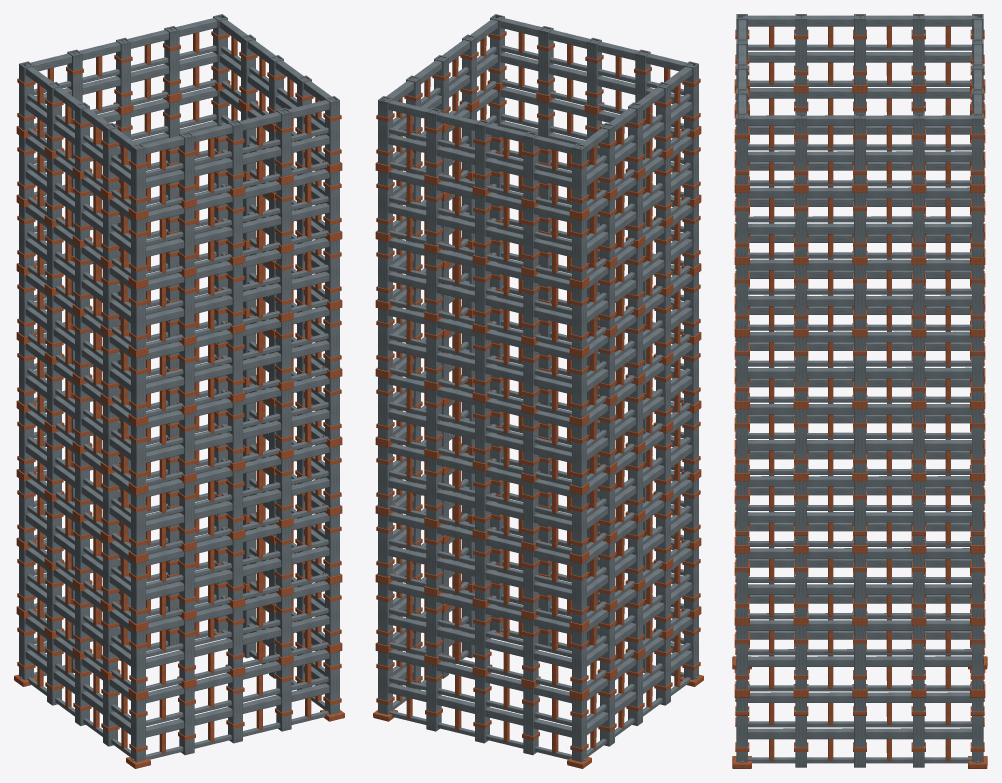
3 views of the same model, side by side, from view 1: azimuth 30°, elevation 25°; view 2: azimuth 150°, elevation 25°; view 3: azimuth 270°, elevation 25° (orthographic). The views are drawn at different scales.
Visible parts, largest first — view 1: Tier 8 side 0 post 0, Tier 8 side 0 post 1, Tier 8 side 0 post 3, Tier 8 side 2 post 1, Tier 0 side 0 post 3, Tier 0 side 0 post 1, Tier 0 side 0 post 0, Tier 1 side 0 post 0, Tier 5 side 0 post 0, Tier 2 side 0 post 0, Tier 4 side 0 post 0, Tier 6 side 0 post 0 (+75 smaller); view 2: Tier 8 side 3 post 0, Tier 8 side 2 post 1, Tier 8 side 2 post 3, Tier 8 side 0 post 3, Tier 0 side 2 post 1, Tier 0 side 2 post 3, Tier 0 side 3 post 0, Tier 4 side 3 post 0, Tier 7 side 3 post 0, Tier 1 side 3 post 0, Tier 2 side 3 post 0, Tier 5 side 3 post 0 (+75 smaller); view 3: Tier 8 side 3 post 1, Tier 8 side 3 post 2, Tier 8 side 3 post 3, Tier 8 side 1 post 1, Tier 8 side 1 post 2, Tier 8 side 1 post 3, Tier 8 side 2 post 0, Tier 8 side 1 post 0, Tier 0 side 1 post 1, Tier 0 side 1 post 2, Tier 0 side 1 post 3, Tier 1 side 1 post 0 (+120 smaller).
Part boxes in pixels (<box>): Tier 8 side 0 post 0: <box>131,143,145,212</box>; Tier 8 side 0 post 1: <box>179,131,194,200</box>; Tier 8 side 0 post 3: <box>276,108,291,177</box>; Tier 8 side 2 post 1: <box>164,26,179,95</box>; Tier 0 side 0 post 3: <box>276,663,291,731</box>; Tier 0 side 0 post 1: <box>179,687,194,755</box>; Tier 0 side 0 post 0: <box>131,698,145,762</box>; Tier 1 side 0 post 0: <box>131,629,145,692</box>; Tier 5 side 0 post 0: <box>131,355,145,418</box>; Tier 2 side 0 post 0: <box>131,560,145,624</box>; Tier 4 side 0 post 0: <box>131,423,145,486</box>; Tier 6 side 0 post 0: <box>131,286,145,349</box>; Tier 8 side 3 post 0: <box>572,143,586,212</box>; Tier 8 side 2 post 1: <box>426,108,441,177</box>; Tier 8 side 2 post 3: <box>523,131,538,200</box>; Tier 8 side 0 post 3: <box>538,26,553,95</box>; Tier 0 side 2 post 1: <box>426,663,441,731</box>; Tier 0 side 2 post 3: <box>523,687,538,755</box>; Tier 0 side 3 post 0: <box>572,698,586,762</box>; Tier 4 side 3 post 0: <box>572,423,586,487</box>; Tier 7 side 3 post 0: <box>572,217,586,281</box>; Tier 1 side 3 post 0: <box>572,629,586,692</box>; Tier 2 side 3 post 0: <box>572,560,586,624</box>; Tier 5 side 3 post 0: <box>572,355,586,418</box>; Tier 8 side 3 post 1: <box>913,14,924,85</box>; Tier 8 side 3 post 2: <box>854,14,865,85</box>; Tier 8 side 3 post 3: <box>795,14,806,85</box>; Tier 8 side 1 post 1: <box>795,113,806,184</box>; Tier 8 side 1 post 2: <box>854,113,865,184</box>; Tier 8 side 1 post 3: <box>913,113,924,184</box>; Tier 8 side 2 post 0: <box>972,113,983,184</box>; Tier 8 side 1 post 0: <box>736,113,747,184</box>; Tier 0 side 1 post 1: <box>795,698,806,767</box>; Tier 0 side 1 post 2: <box>854,698,865,767</box>; Tier 0 side 1 post 3: <box>913,698,924,767</box>; Tier 1 side 1 post 0: <box>736,625,747,689</box>.
Size of the model in its own units: 1.95 by 5.47 by 1.95.
Materials: 2 (2 with a texture image).
